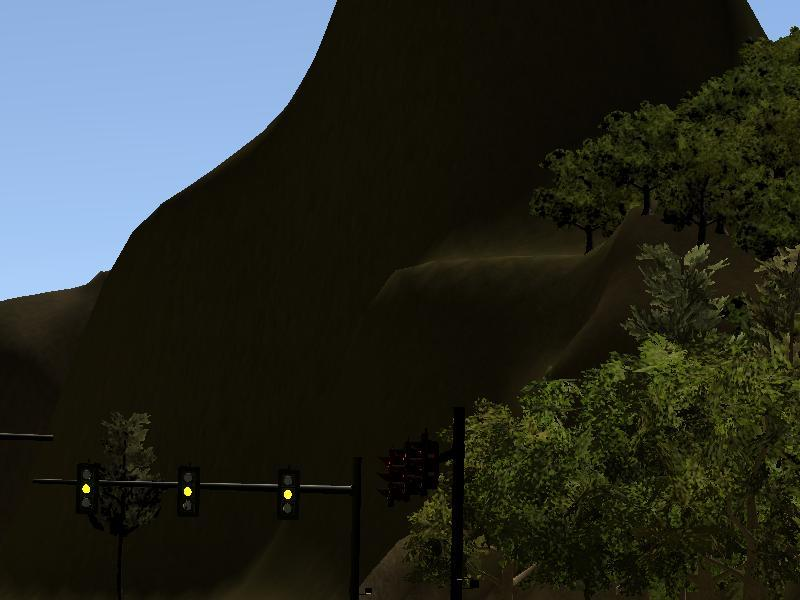Yellow: (75, 462, 98, 513), (277, 470, 300, 520), (177, 467, 199, 515)
